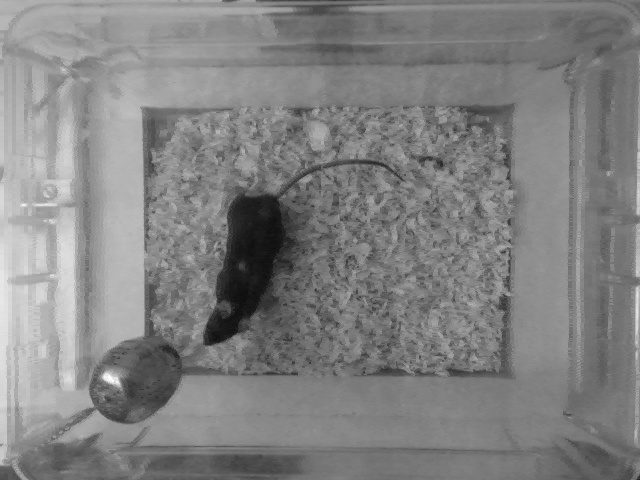mice: (200, 154, 402, 351)
